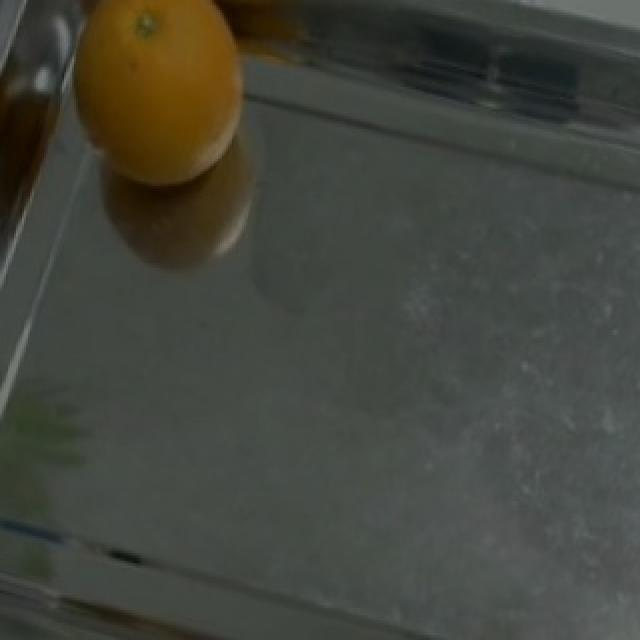Fruit: (42, 0, 270, 216)
